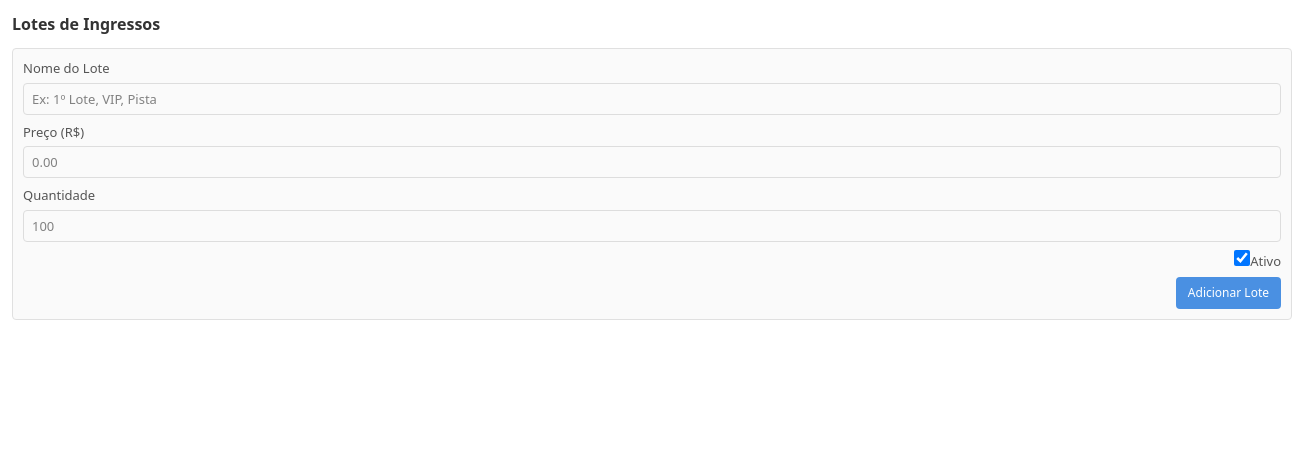
Test: TicketLotManager › cria lote (POST) e adiciona na lista
This screenshot has width=1292, height=463.
expect the button "Adicionar Lote" is enabled: met, box [1176,277,1281,309]
Type "Pista" into the field with placeholder "Ex: 1º Lote, VIP, Pista" at (652, 98), box [23,82,1281,114]
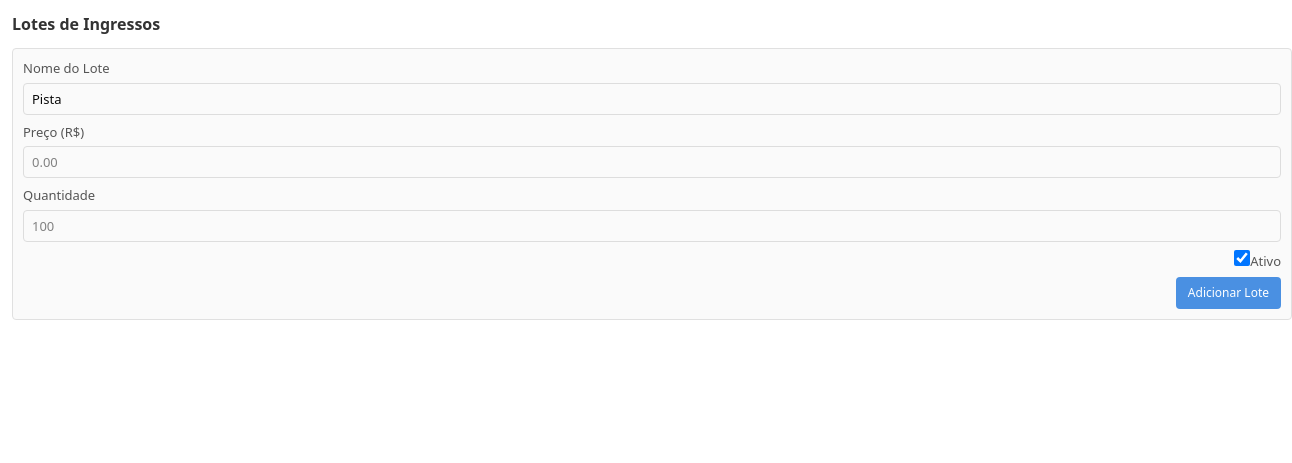
Type "30" into the number field with placeholder "0.00" at (652, 162), box [23,146,1281,178]
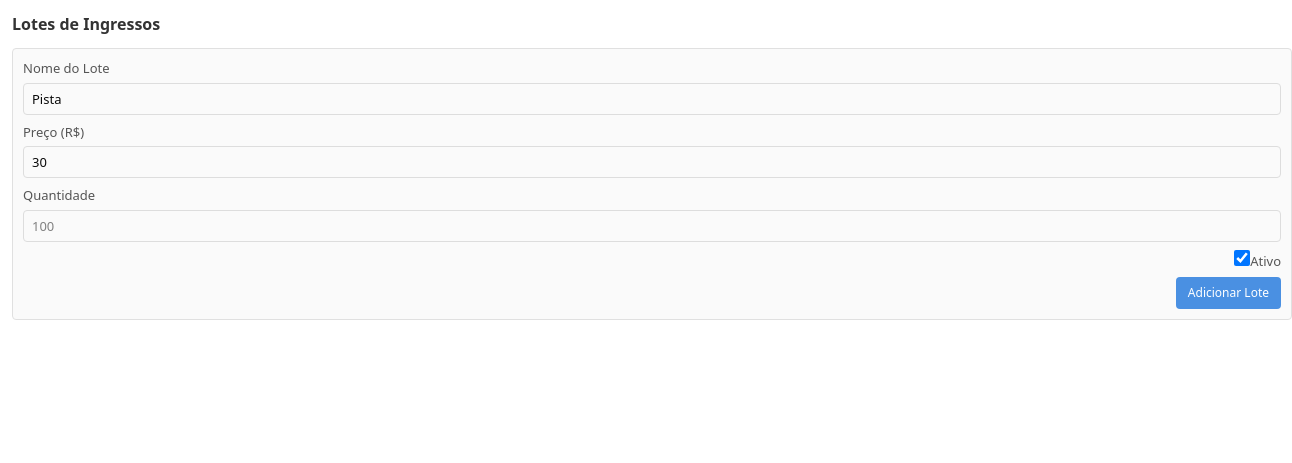
Type "200" into the number field with placeholder "100" at (652, 226), box [23,210,1281,242]
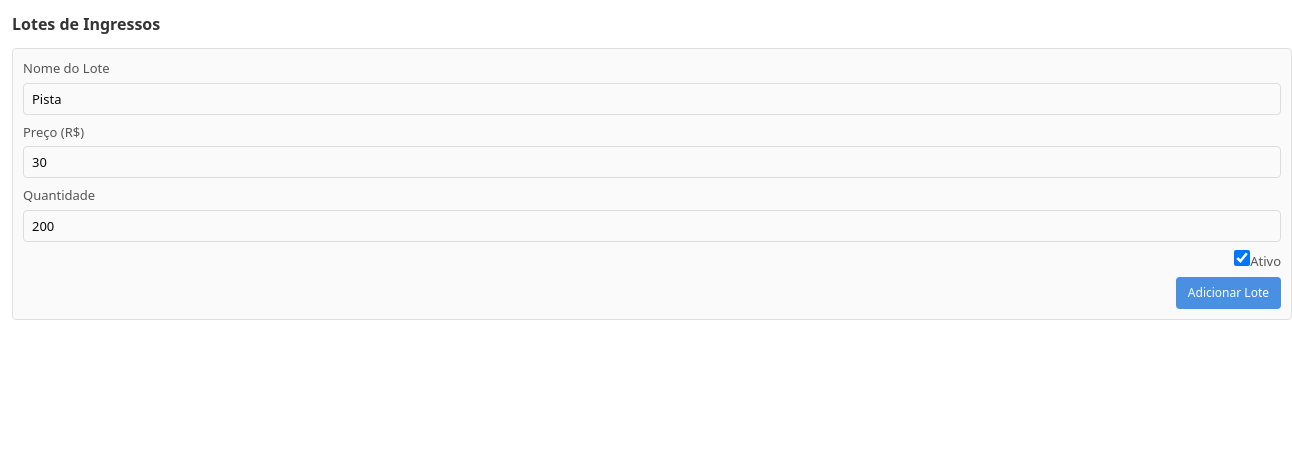
Click the button "Adicionar Lote" at (1228, 293), box [1176,277,1281,309]
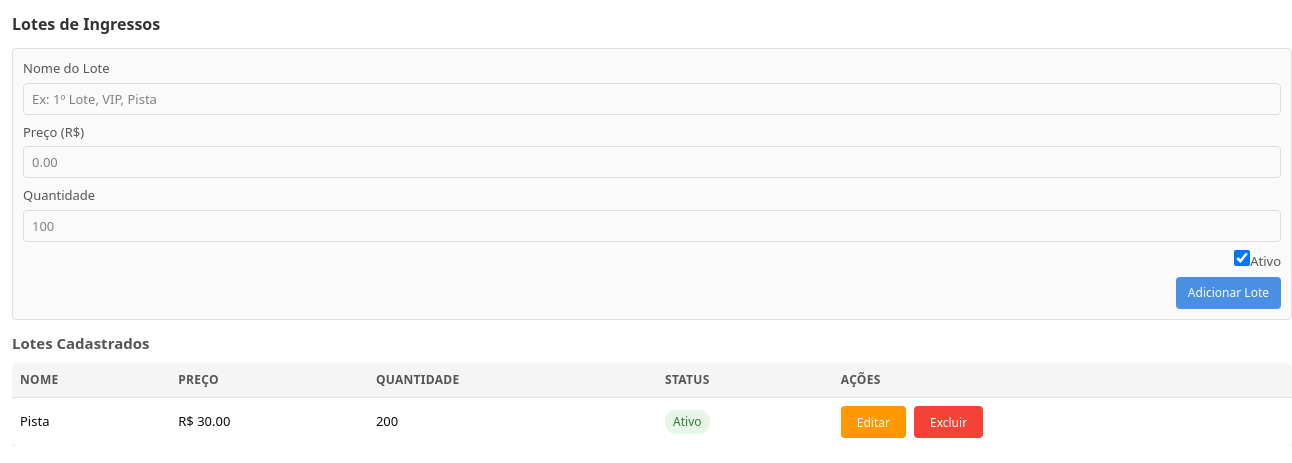
expect the text "Pista" is shown: met, box [12,397,170,446]
expect the text "R$ 30.00" is shown: met, box [170,397,368,446]
expect the text "200" is shown: met, box [368,397,657,446]
